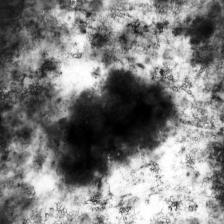Benign Marking or Mole: (62, 72, 171, 182)
